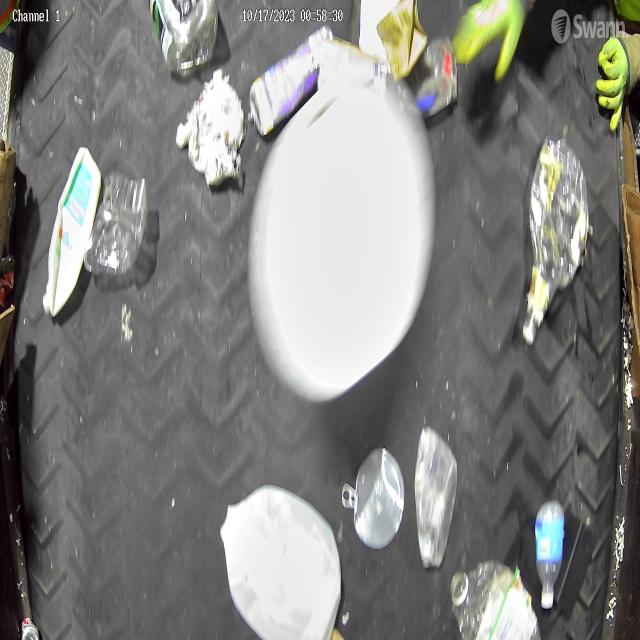can: (353, 447, 404, 552), (18, 615, 42, 639)
milk_jug: (220, 481, 341, 639), (43, 147, 101, 316)
plastic_bottle: (523, 134, 589, 342), (450, 560, 537, 640), (157, 1, 218, 76)
